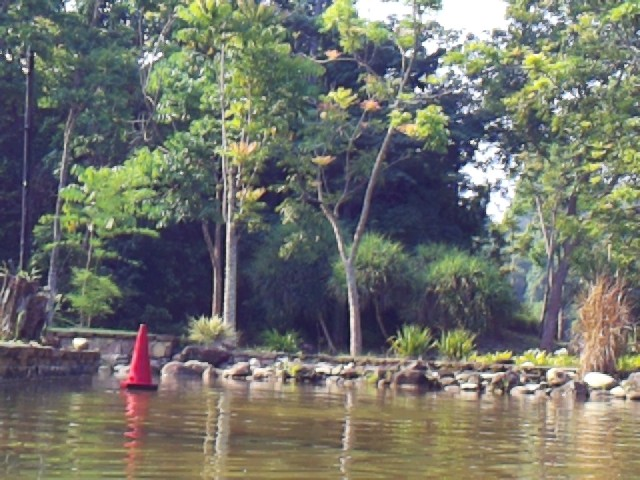obstacle: (121, 324, 160, 390)
